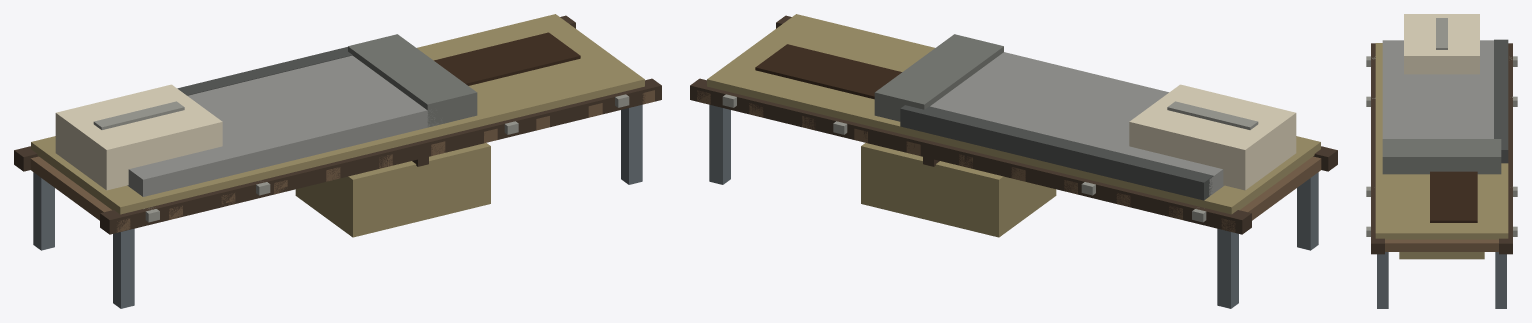
Rendered from safehouse_bed.glb.
3 views of the same model, side by side, from view 1: azimuth 30°, elevation 25°; view 2: azimuth 150°, elevation 25°; view 3: azimuth 270°, elevation 25° (orthographic). The views are drawn at different scales.
Parts seen in each view (by area): view 1: safehouse_bed; view 2: safehouse_bed; view 3: safehouse_bed.
Boxes of the visible parts, box(x1,y1,x2,y2) form: safehouse_bed: box(14, 14, 661, 308); safehouse_bed: box(690, 14, 1337, 308); safehouse_bed: box(1366, 14, 1517, 308).
Size of what is drawn, in the model's own units: 2 by 0.51 by 0.64.
Materials: 3 (3 with a texture image).
